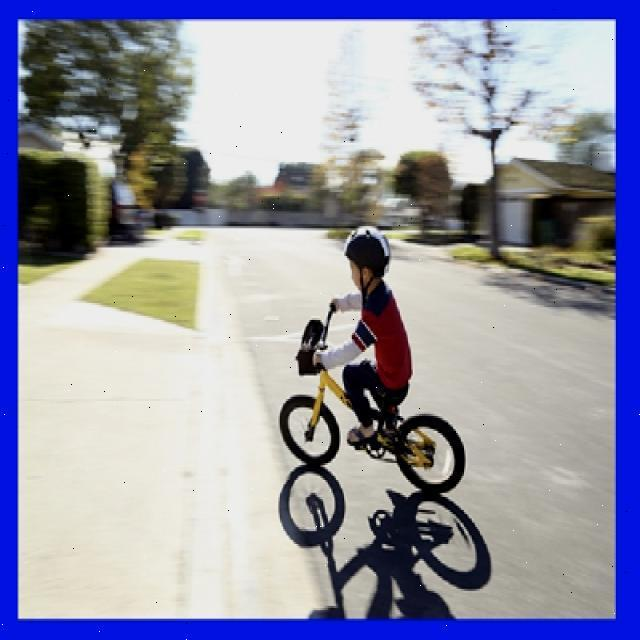Helmet: (342, 211, 396, 299)
